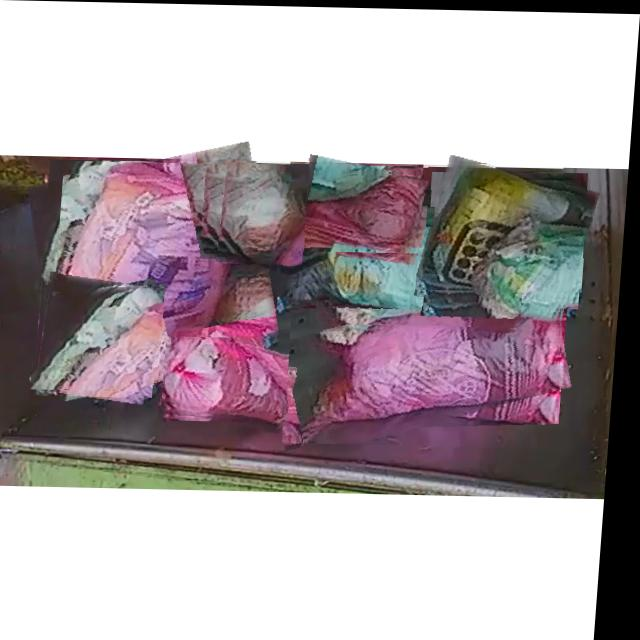general_trashbag: (420, 161, 597, 287), (336, 209, 527, 324)
other_trashbag: (290, 275, 563, 442), (56, 162, 254, 392), (35, 285, 169, 389), (296, 171, 430, 250), (169, 337, 292, 421), (224, 160, 309, 262)
